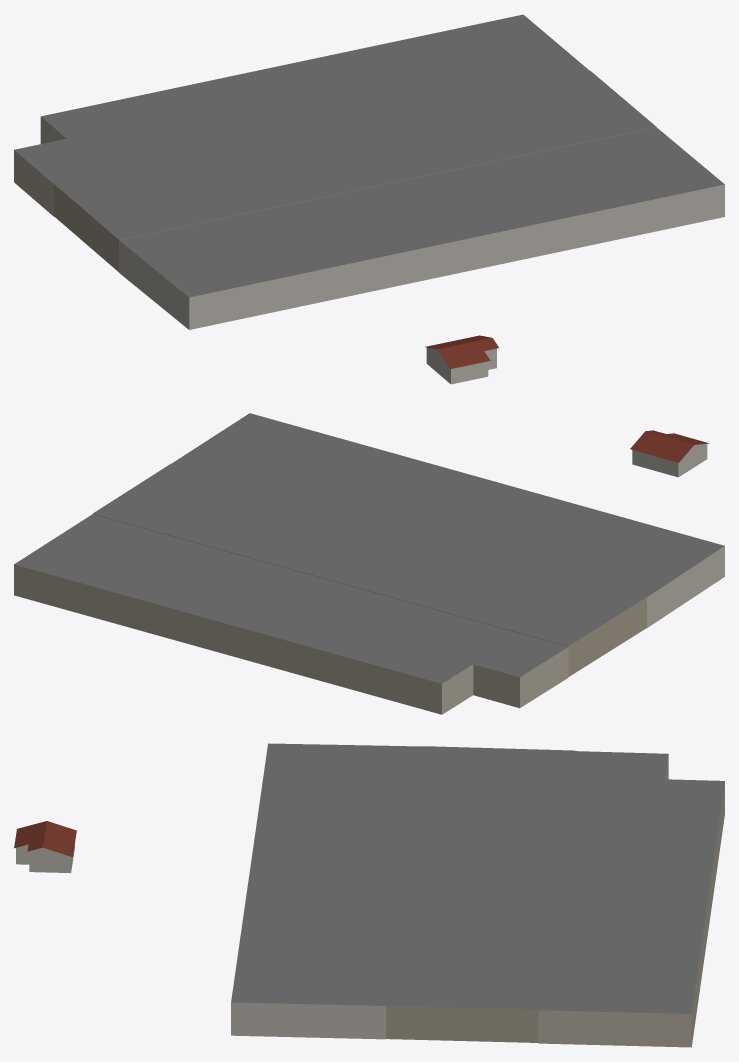
3 renders of one model, top to bottom at view 1: azimuth 30°, elevation 25°; view 2: azimuth 150°, elevation 25°; view 3: azimuth 270°, elevation 25°, orthographic. The views are drawn at different scales.
Visible parts, largest first — view 1: buildings; view 2: buildings; view 3: buildings.
Part boxes in pixels (x1,y1,x2,y2): buildings: (14,14,724,384); buildings: (14,413,724,714); buildings: (14,743,724,1047).
Bounding box in the file's own units: 104 × 6.1 × 116.
